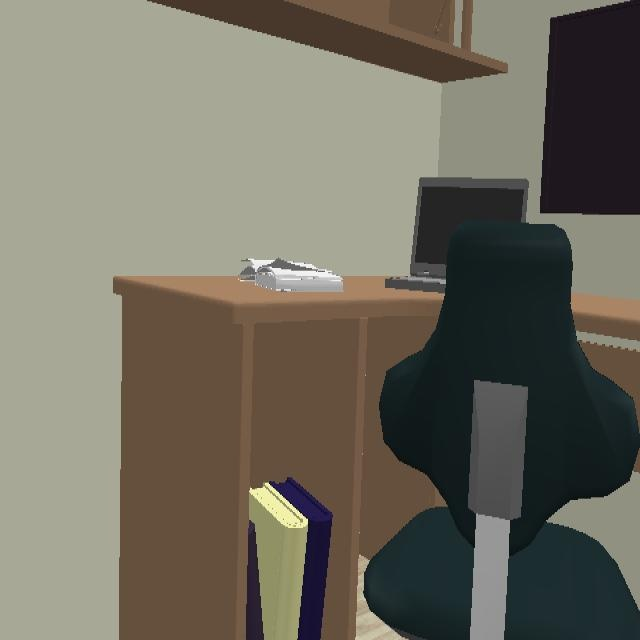book: (247, 480, 333, 640), (239, 257, 344, 296)
chair: (366, 221, 640, 640)
laptop: (386, 177, 530, 293)
monitor: (540, 0, 640, 217)
shelf: (146, 0, 509, 84)
table: (112, 276, 444, 640), (573, 295, 640, 423)
